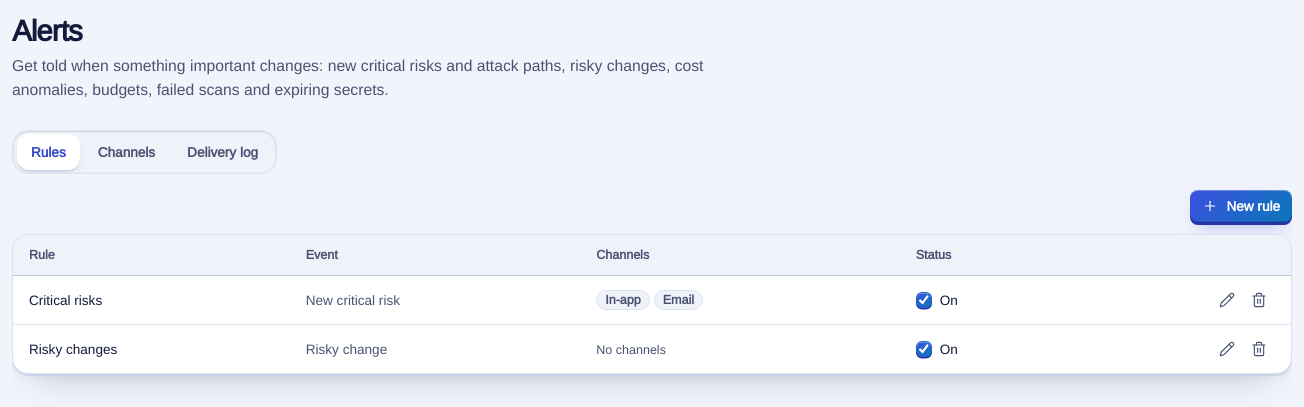
Test: AlertsPage › lists rules with their channels and gates webhooks by plan
The width and height of the screenshot is (1304, 407).
Expected: the text "Critical risks" is shown, [29,290,102,308]
Expected: the text "In-app" is shown, [596,290,650,310]
Click the tab "Channels" at (126, 152), box [84,134,169,170]
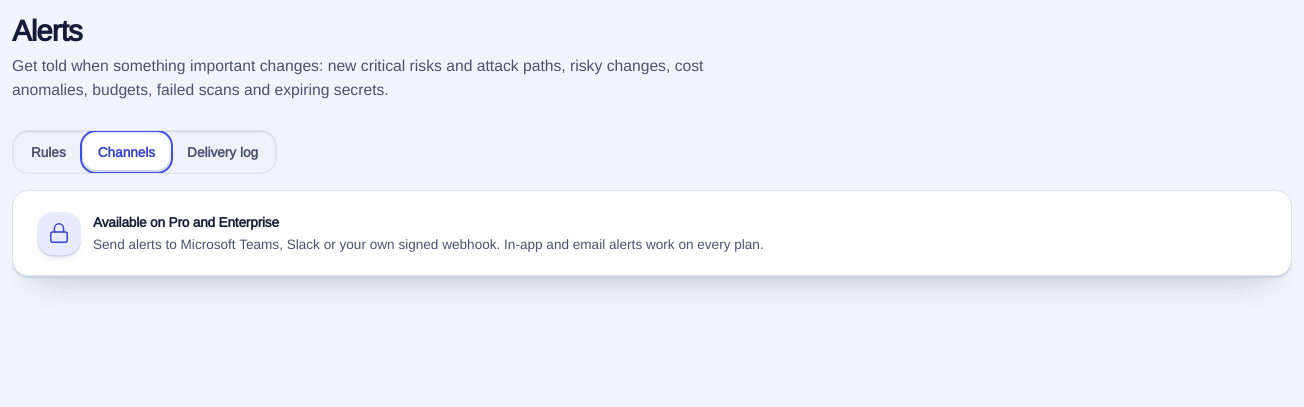
Expected: the heading "Available on Pro and Enterprise" is shown, [93,213,279,231]
